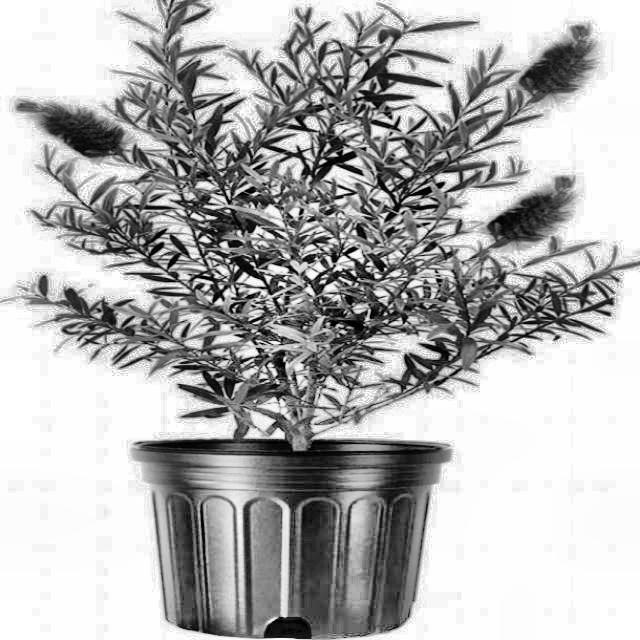plants: (44, 0, 582, 522)
